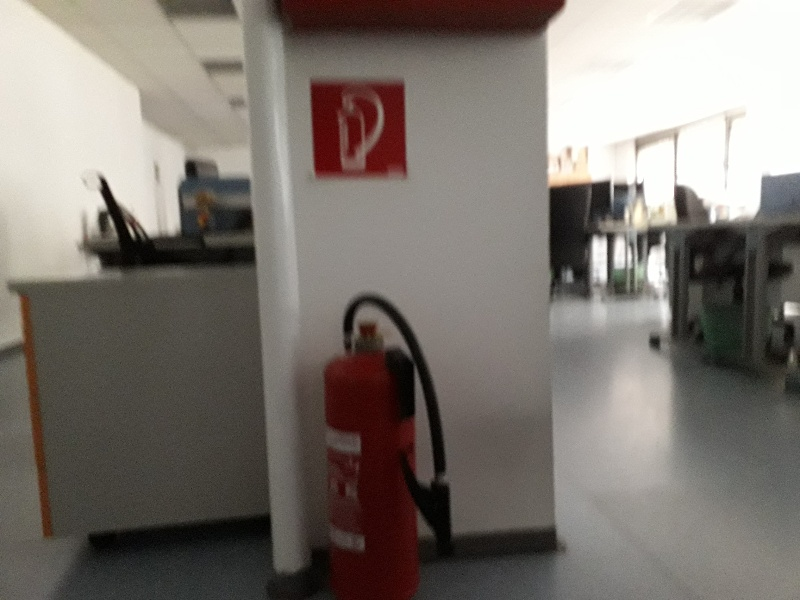vataparat: (322, 294, 453, 600)
